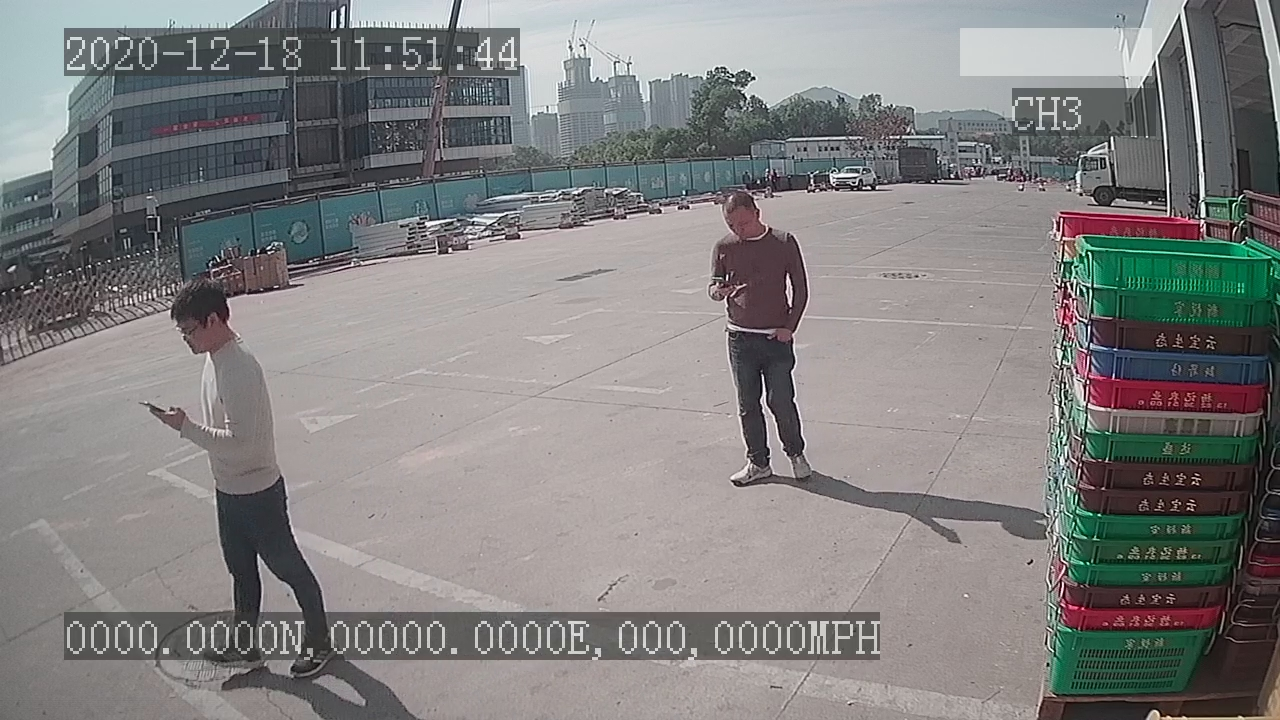person: (702, 188, 817, 495)
